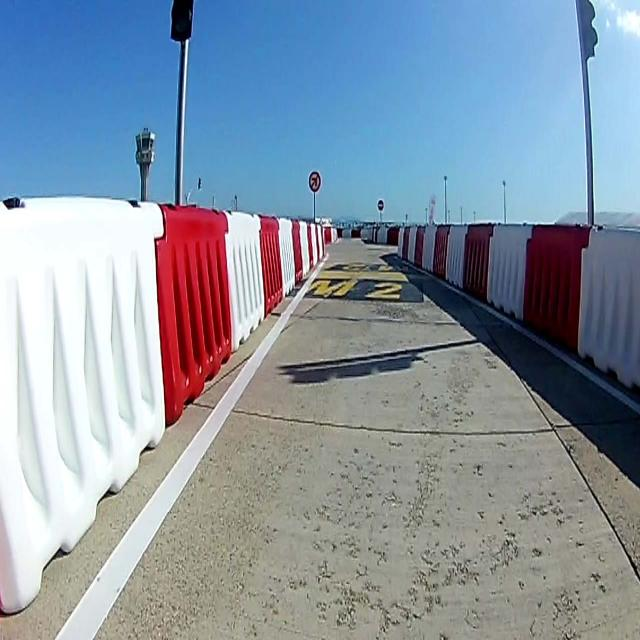girisyok: (378, 199, 384, 212)
soladonulmez: (308, 171, 322, 193)
